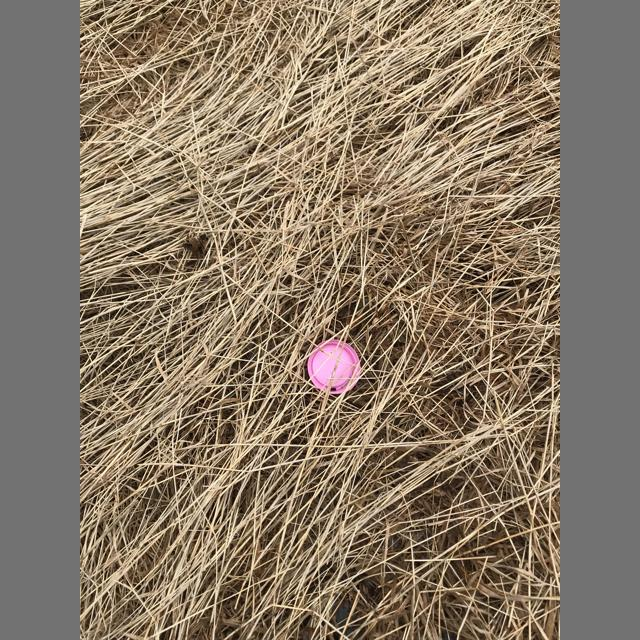litter: (308, 340, 360, 394)
